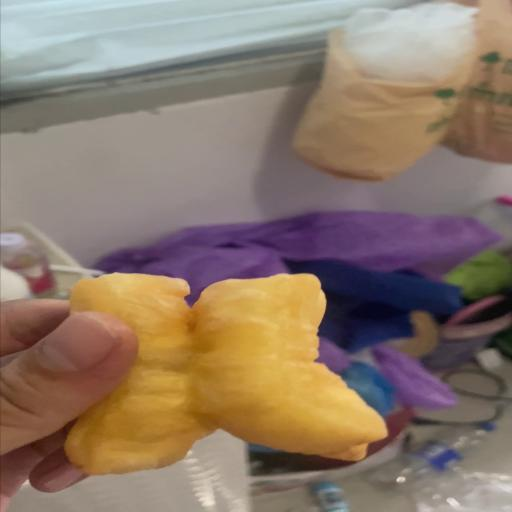street_golden_good: (64, 272, 384, 474)
